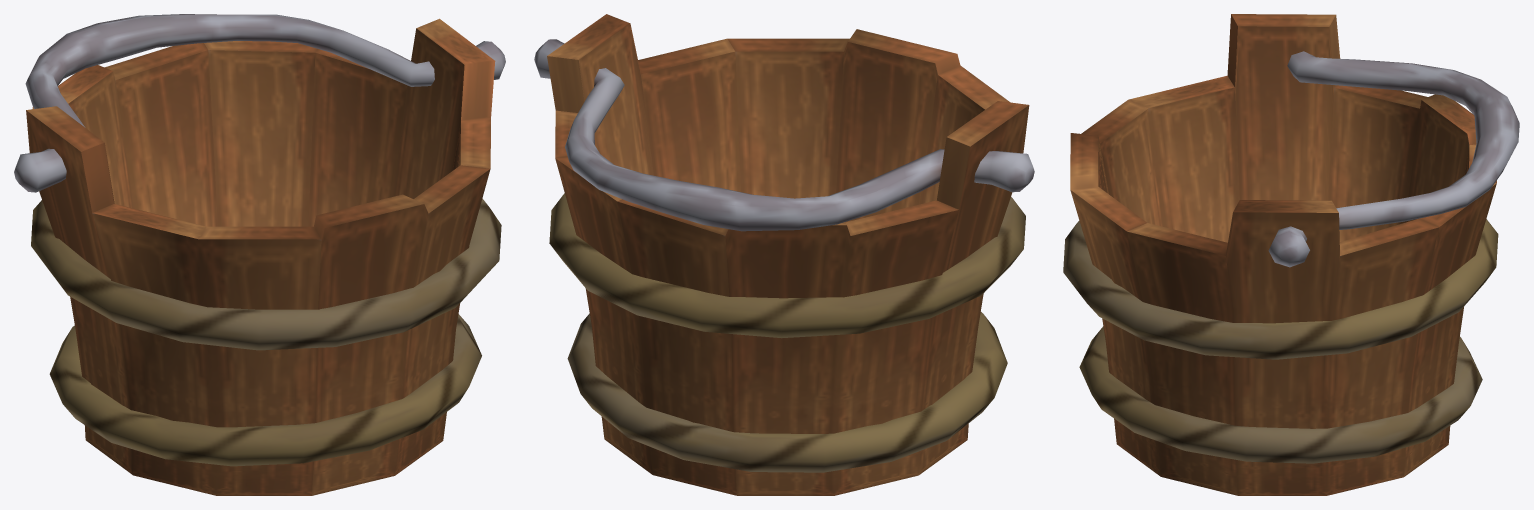
Rendered from bucket_wooden_1.glb.
3 renders of one model, left to right at view 1: azimuth 30°, elevation 25°; view 2: azimuth 150°, elevation 25°; view 3: azimuth 270°, elevation 25°, orthographic. The views are drawn at different scales.
Parts seen in each view (by area): view 1: Bucket_Wooden_1; view 2: Bucket_Wooden_1; view 3: Bucket_Wooden_1.
Part boxes in pixels (box(x1,y1,x2,y2)): Bucket_Wooden_1: box(14, 14, 505, 495); Bucket_Wooden_1: box(534, 14, 1034, 495); Bucket_Wooden_1: box(1063, 14, 1519, 495).
Size of the model in its own units: 0.4339 by 0.2928 by 0.3835.
2 materials, 2 textured.
